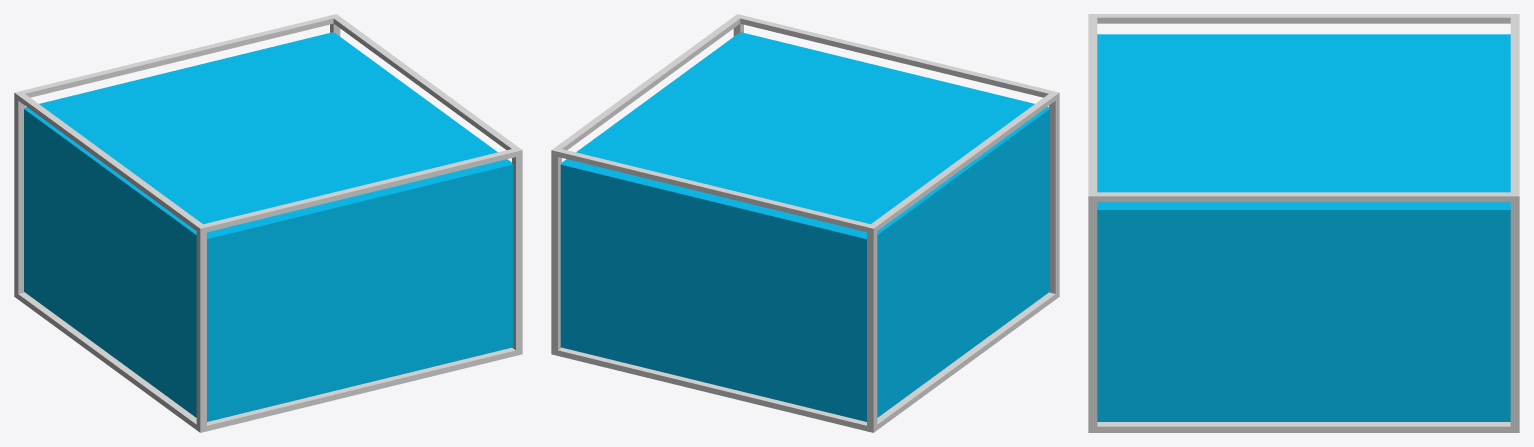
The model's file is Tank.fbx.
The picture shows the model from 3 angles, left to right: view 1: azimuth 30°, elevation 25°; view 2: azimuth 150°, elevation 25°; view 3: azimuth 270°, elevation 25°; orthographic projection. The views are drawn at different scales.
Visible parts, largest first — view 1: Cube.001, Cube; view 2: Cube.001, Cube; view 3: Cube.001, Cube.
Boxes of the visible parts, x1=… form: Cube.001: x1=24, y1=32, x2=513, y2=421; Cube: x1=14, y1=14, x2=522, y2=432; Cube.001: x1=560, y1=32, x2=1049, y2=421; Cube: x1=551, y1=14, x2=1059, y2=432; Cube.001: x1=1097, y1=34, x2=1510, y2=421; Cube: x1=1088, y1=14, x2=1519, y2=432.
Bounding box in the file's own units: 200 × 121 × 200.
